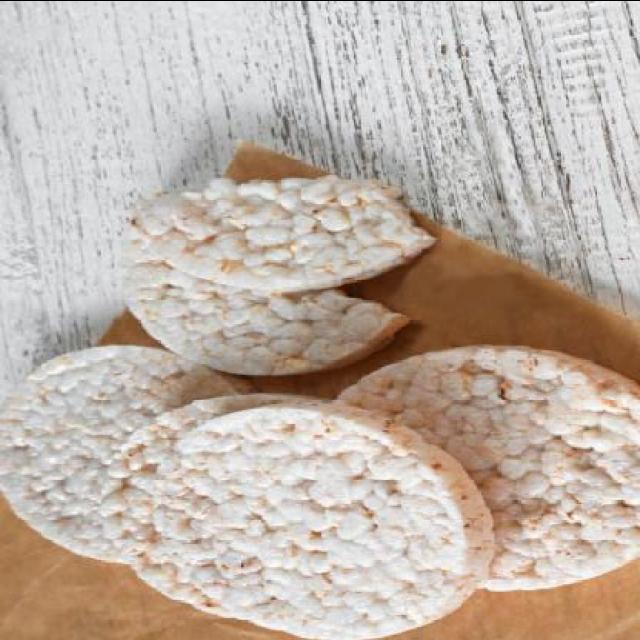Gallette di riso packaged: (156, 399, 493, 639), (327, 339, 639, 590), (1, 343, 265, 571), (110, 231, 438, 375), (123, 166, 434, 288)
